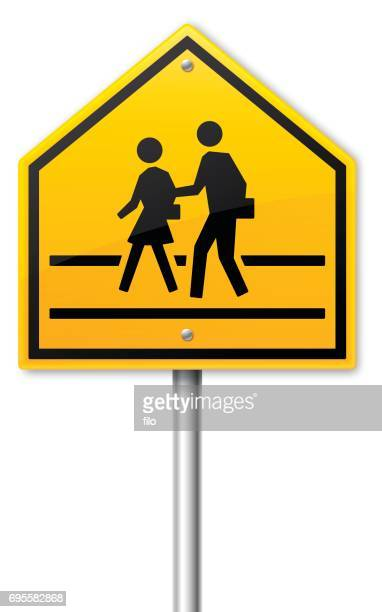pedestrian: (28, 69, 349, 366)
